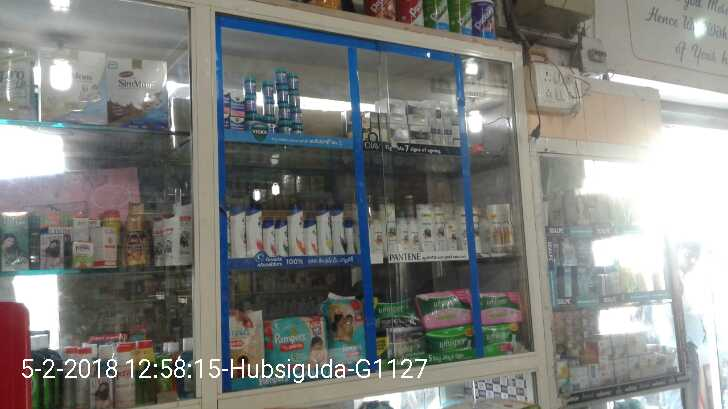vicks: (221, 67, 309, 133)
